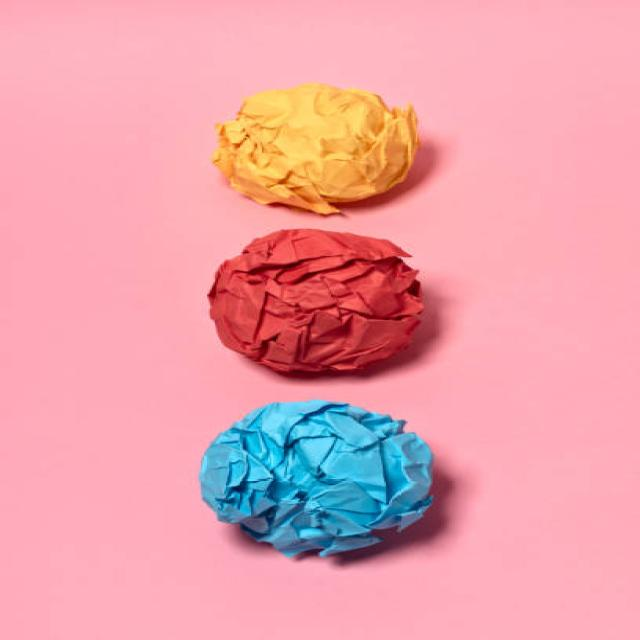electronic: (198, 398, 434, 558), (206, 227, 425, 377), (210, 81, 420, 216)
